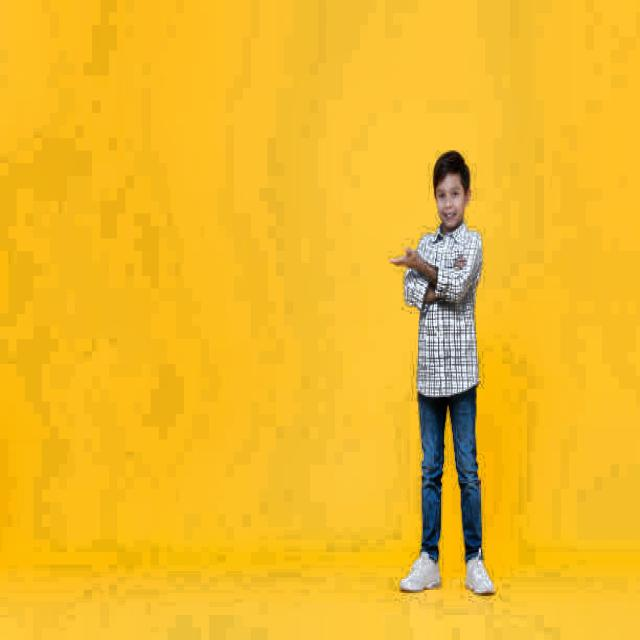Human: (391, 128, 523, 612)
